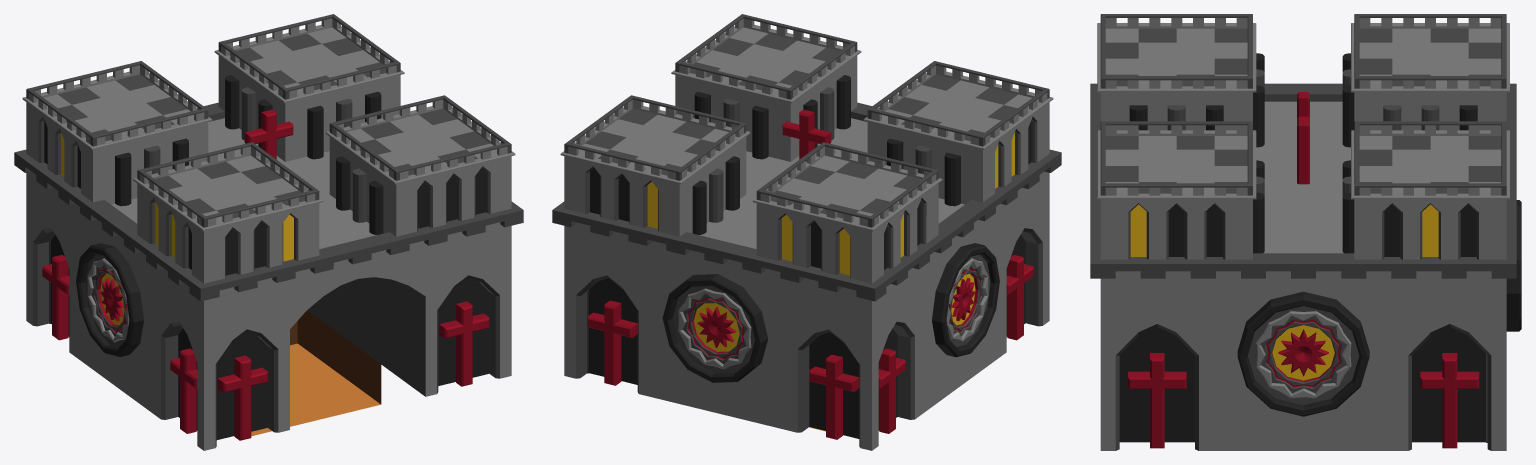
File: Path_Target.fbx
3 renders of one model, left to right at view 1: azimuth 30°, elevation 25°; view 2: azimuth 150°, elevation 25°; view 3: azimuth 270°, elevation 25°, orthographic. The views are drawn at different scales.
Visible parts, largest first — view 1: Path_Target; view 2: Path_Target; view 3: Path_Target.
Boxes of the visible parts, box(x1,y1,x2,y2) form: Path_Target: box(14, 14, 523, 450); Path_Target: box(552, 14, 1061, 450); Path_Target: box(1090, 14, 1521, 450).
Size of the model in its own units: 429 by 344 by 425.
